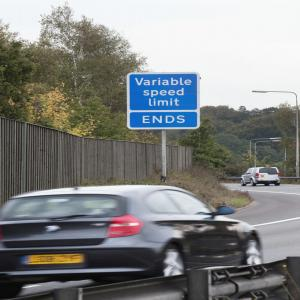Vehicle-registration-plate: (21, 254, 88, 267)
